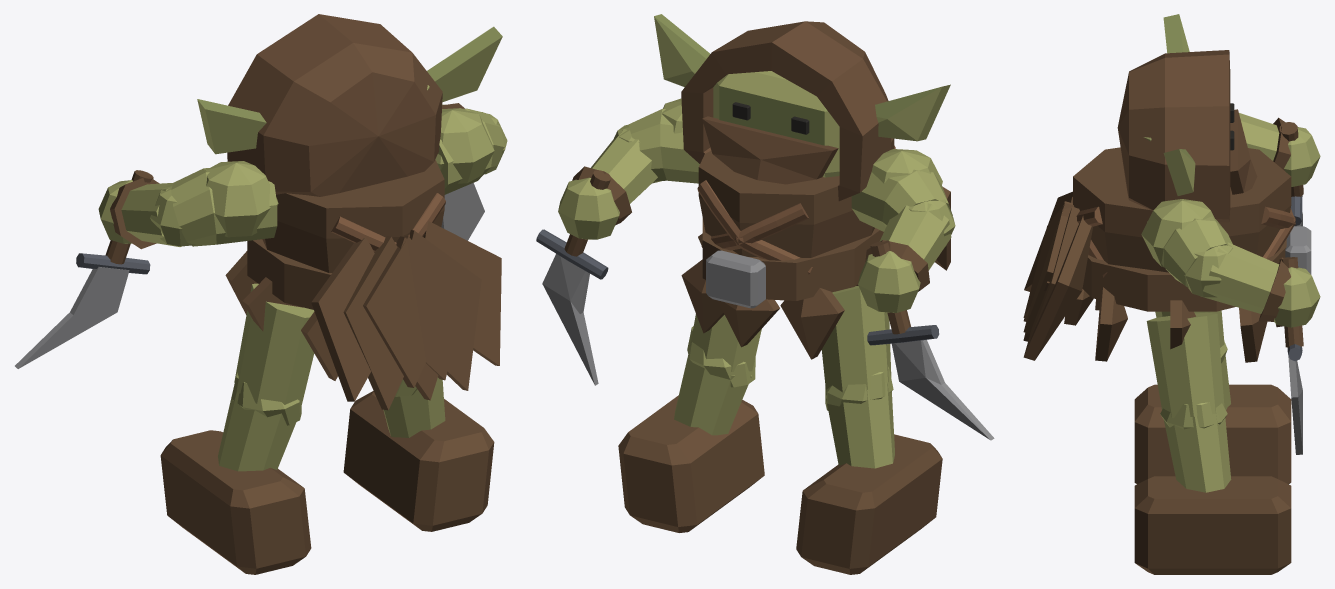
File: host_09.glb
3 views of the same model, side by side, from view 1: azimuth 30°, elevation 25°; view 2: azimuth 150°, elevation 25°; view 3: azimuth 270°, elevation 25° (orthographic). The views are drawn at different scales.
Visible parts, largest first — view 1: V6 source fitted domed cloth hood, V6 dust dancer source fitted overlapping ragged rear leather (×6), Grounded boot L, Grounded boot R, Tailored continuous bodice, Upper leg L, Lower leg L, Connected shoulder L, Upper arm L, V6 source curved forged dagger blade, Continuous leather waist belt, Connected shoulder R (+16 smaller); view 2: V6 source fitted domed cloth hood, Grounded boot R, Grounded boot L, Tailored continuous bodice, Observed face, V6 source fitted lower cloth face mask, Upper leg L, Continuous leather waist belt, Lower leg L, Lower leg R, Upper arm L, V6 dust dancer actual contacting crossed fitted leather tuni (×2) (+24 smaller); view 3: V6 source fitted domed cloth hood, Grounded boot R, Tailored continuous bodice, Grounded boot L, V6 dust dancer source fitted overlapping ragged rear leather (×5), Upper leg R, Continuous leather waist belt, Lower leg R, Forearm R, Upper arm R, Connected shoulder R, Grasping hand R (+18 smaller).
Part boxes in pixels (x1,y1,x2,y2): V6 source fitted domed cloth hood: (227,14,442,196); V6 dust dancer source fitted overlapping ragged rear leather (×6): (311,221,501,410); Grounded boot L: (160,430,311,574); Grounded boot R: (343,391,494,531); Tailored continuous bodice: (262,159,444,272); Upper leg L: (234,283,314,409); Lower leg L: (218,387,296,471); Connected shoulder L: (205,161,278,237); Upper arm L: (171,168,277,246); V6 source curved forged dagger blade: (15,267,129,368); Continuous leather waist belt: (247,239,331,309); Connected shoulder R: (435,108,494,183); V6 source fitted domed cloth hood: (681,21,891,201); Grounded boot R: (618,395,764,532); Grounded boot L: (796,434,942,574); Tailored continuous bodice: (698,138,894,257); Observed face: (713,71,839,177); V6 source fitted lower cloth face mask: (702,116,838,184); Upper leg L: (821,286,891,395); Continuous leather waist belt: (702,218,883,300); Lower leg L: (826,382,894,468); Lower leg R: (674,346,751,435); Upper arm L: (851,169,952,231); V6 dust dancer actual contacting crossed fitted leather tuni (×2): (697,180,812,274); V6 source fitted domed cloth hood: (1117,50,1230,222); Grounded boot R: (1134,476,1291,574); Tailored continuous bodice: (1073,147,1291,272); Grounded boot L: (1134,384,1291,484); V6 dust dancer source fitted overlapping ragged rear leather (×5): (1023,191,1092,360); Upper leg R: (1146,312,1224,417); Continuous leather waist belt: (1082,239,1286,311); Lower leg R: (1164,413,1231,492); Forearm R: (1201,242,1279,313); Upper arm R: (1147,216,1232,287); Connected shoulder R: (1141,199,1215,267); Grasping hand R: (1274,267,1320,327).
Bounding box in the file's own units: 1.07 × 1.09 × 0.6258.
